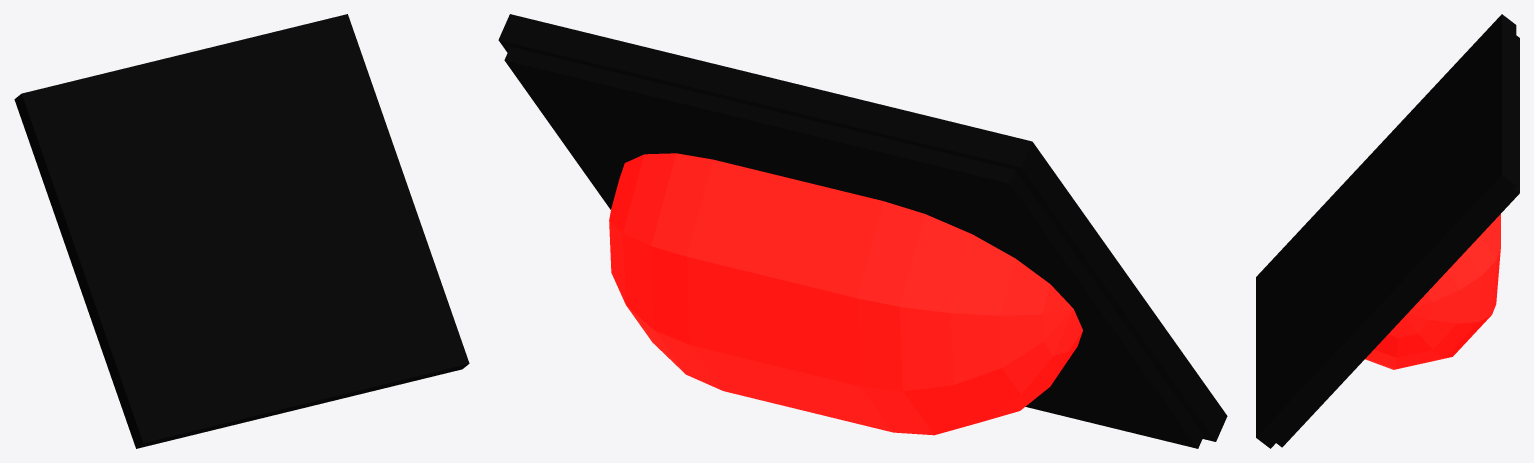
File: light[red].fbx
The picture shows the model from 3 angles, left to right: view 1: azimuth 30°, elevation 25°; view 2: azimuth 150°, elevation 25°; view 3: azimuth 270°, elevation 25°; orthographic projection. The views are drawn at different scales.
Visible parts, largest first — view 1: light_panel-red; view 2: light_panel-red; view 3: light_panel-red.
Part boxes in pixels (x1,y1,x2,y2): light_panel-red: (14,14,469,448); light_panel-red: (498,14,1227,448); light_panel-red: (1256,14,1519,448).
Bounding box in the file's own units: 20 × 15.99 × 13.87.
